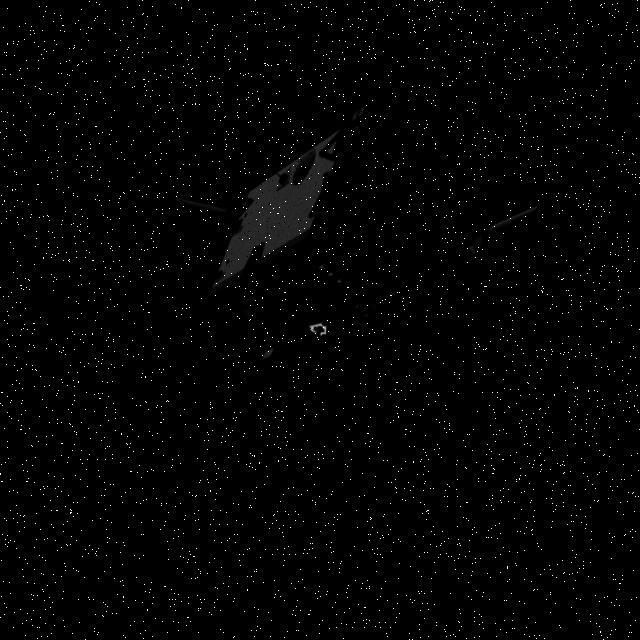satellite: (210, 128, 402, 292)
